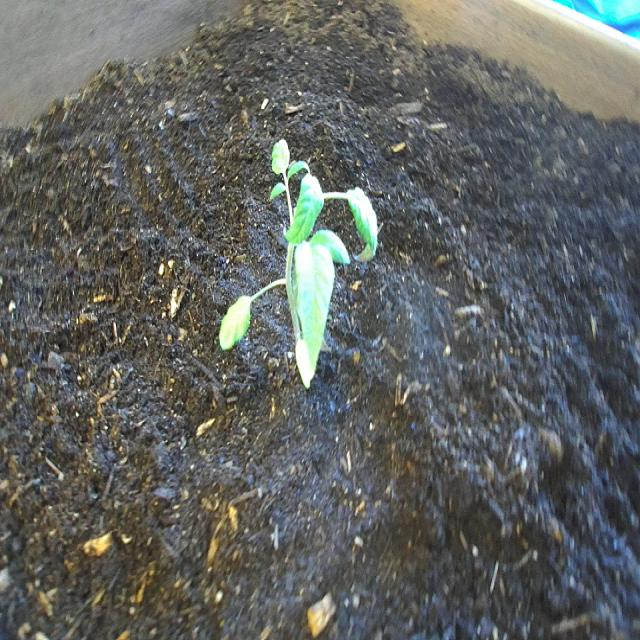Healthy: (216, 133, 380, 399)
